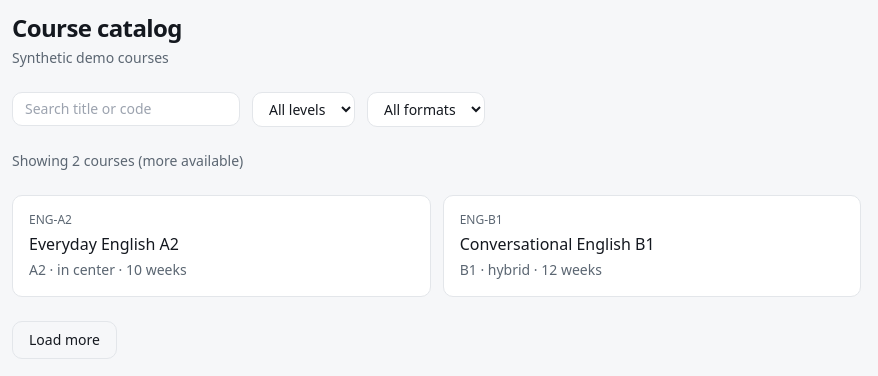
Test: CatalogList › renders synthetic courses then filters by query
Expected: the heading "Everyday English A2" is shown, [29,233,179,255]
Expected: the heading "Conversational English B1" is shown, [460,233,655,255]
Type "ielts" into the field named "Search courses" at (126, 109), box [12,92,240,126]
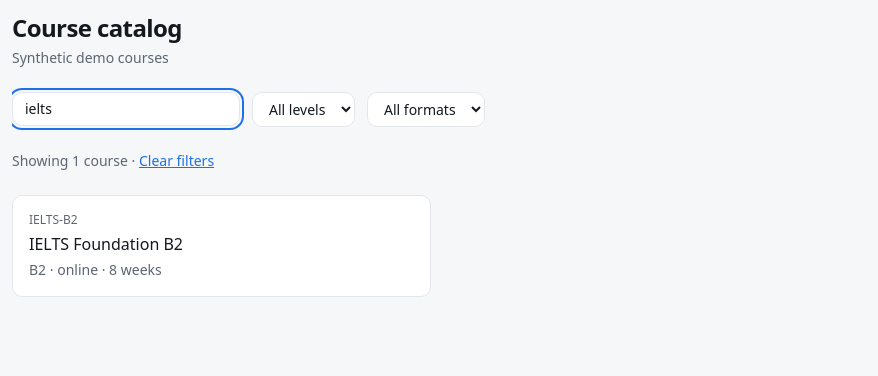
Now the heading "IELTS Foundation B2" is shown, box [29,233,183,255]
Now the link "Everyday English A2" is gone
